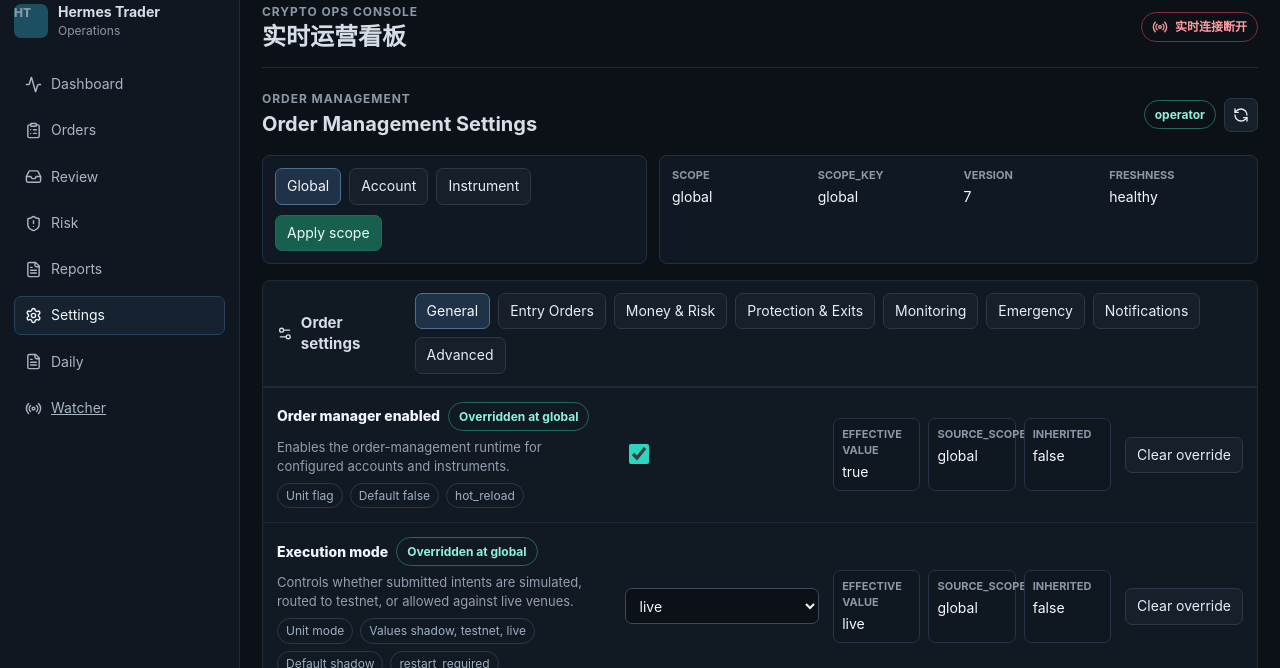
Test: order management settings › blocks dangerous protection combinations before settings save
Click the tab "Protection & Exits": (805,311) [735, 293, 875, 329]
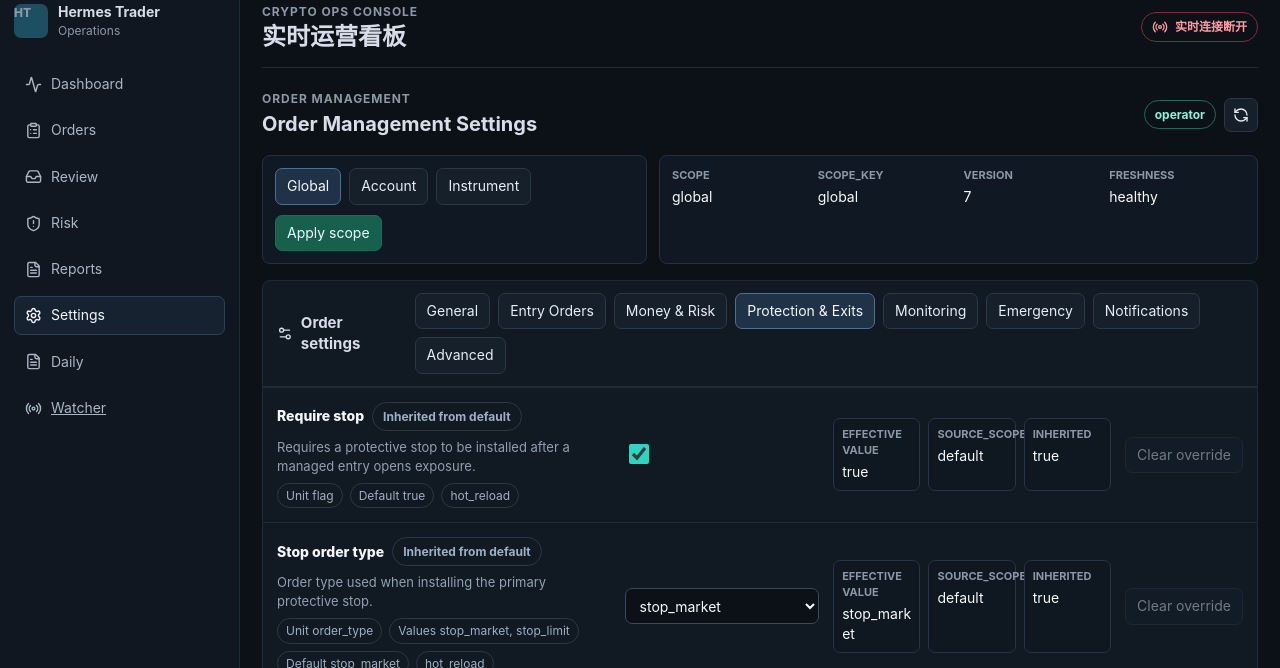
Click the checkbox labelled "Require stop": (639,454) [629, 444, 649, 464]
(page scrolled)
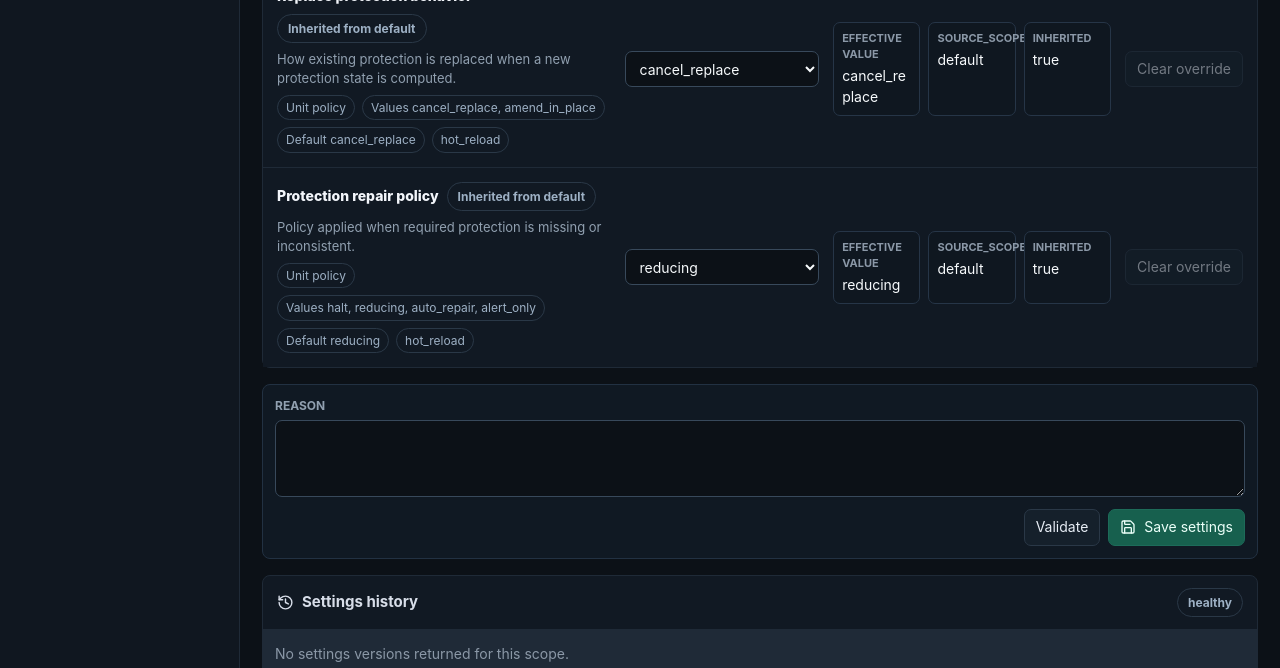
In the text box labelled "Reason": (760,459) [275, 420, 1245, 497], type "temporarily disable stops"
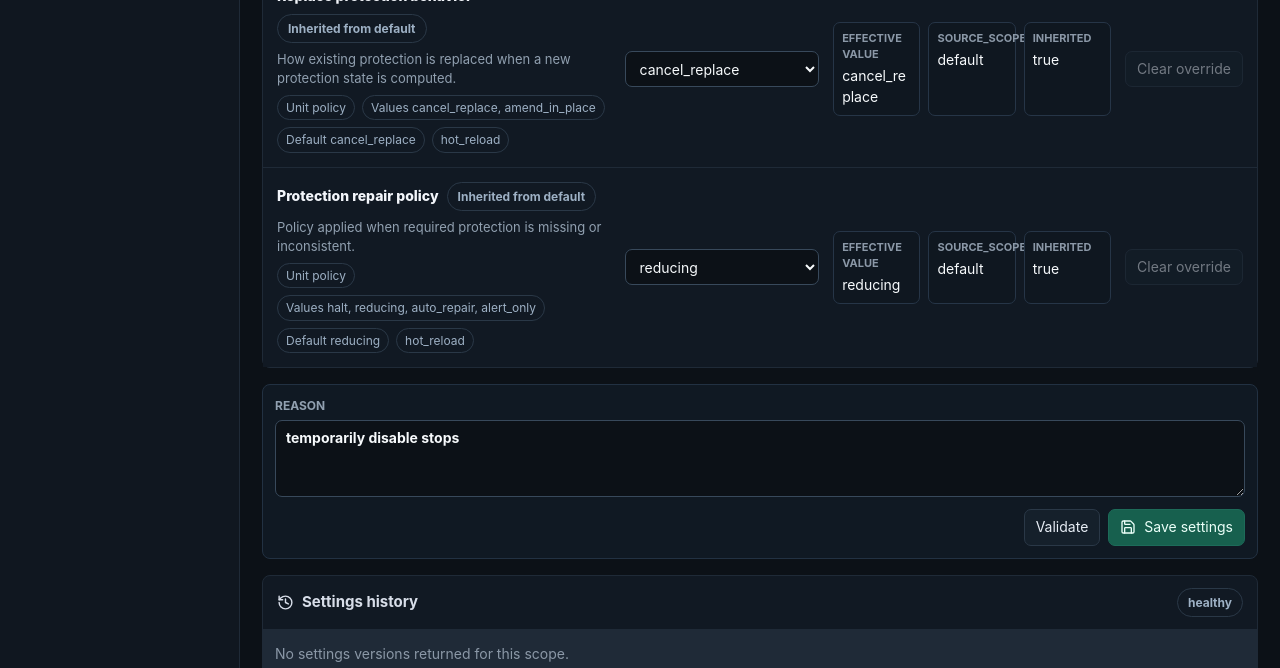
Click the button "Save settings": (1177,527) [1108, 509, 1245, 546]
(page scrolled)
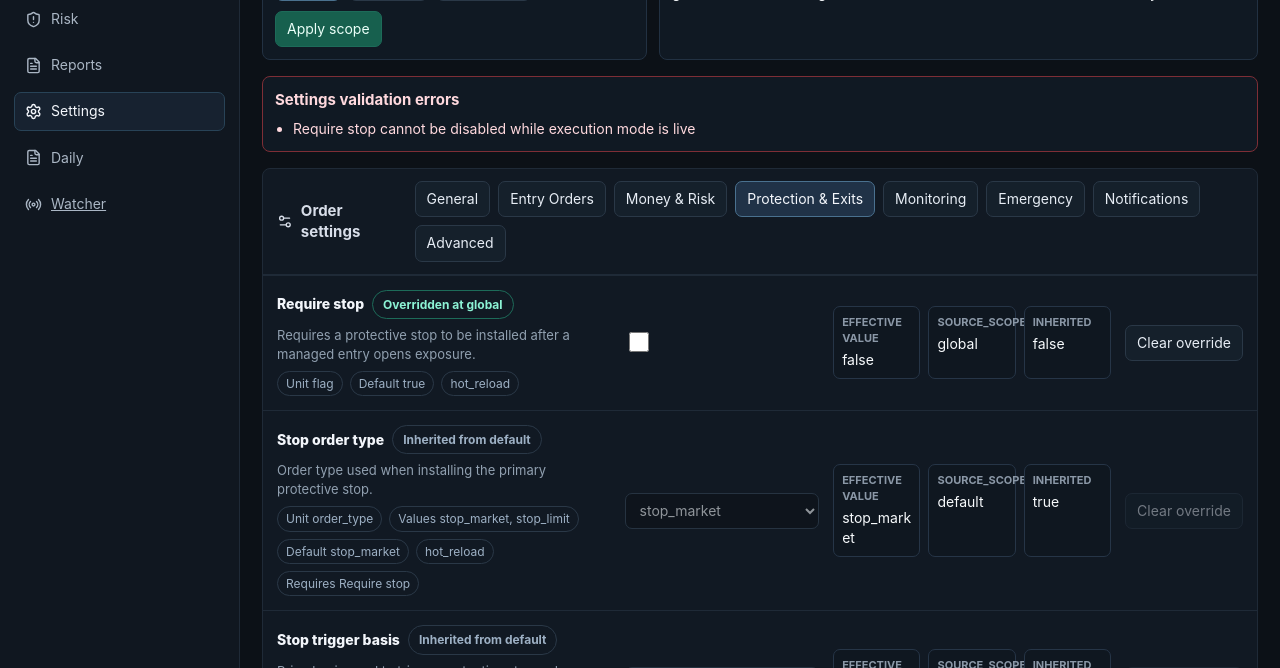
Check: the message "Settings validation errors" shows "Require stop cannot be disabled while execution mode is live", box [293, 120, 696, 137]
Click the checkbox labelled "Require stop": (639,342) [629, 332, 649, 352]
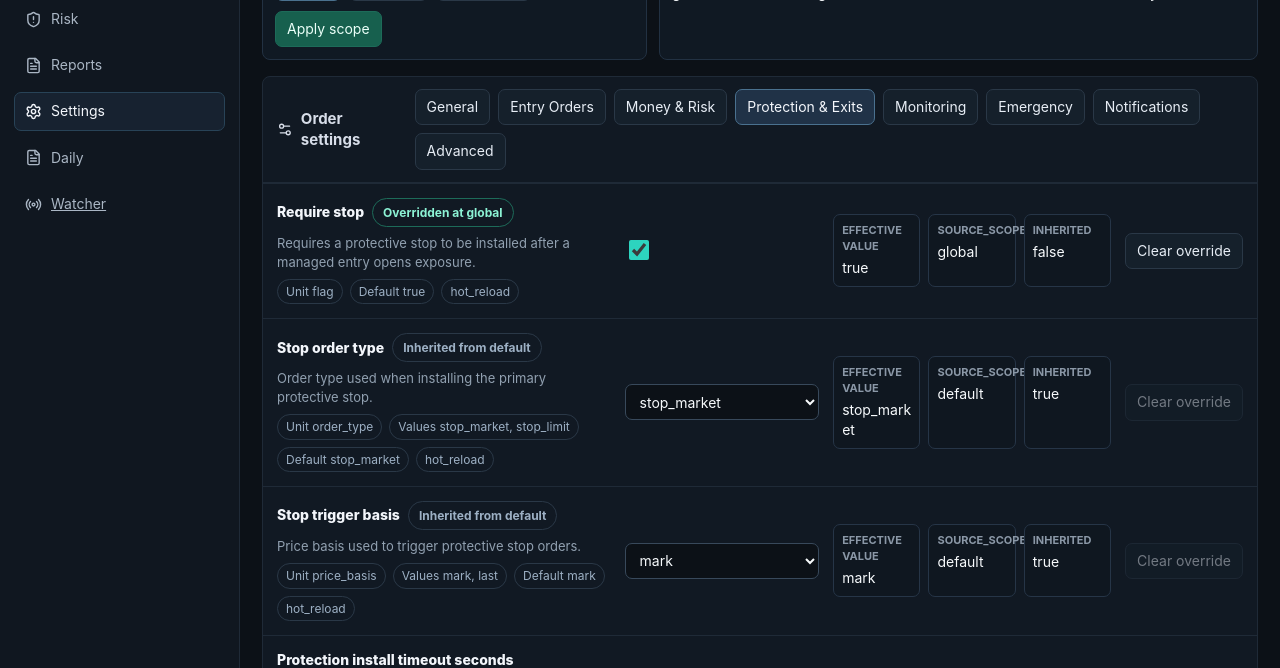
Check: the heading "Settings validation errors" is gone
